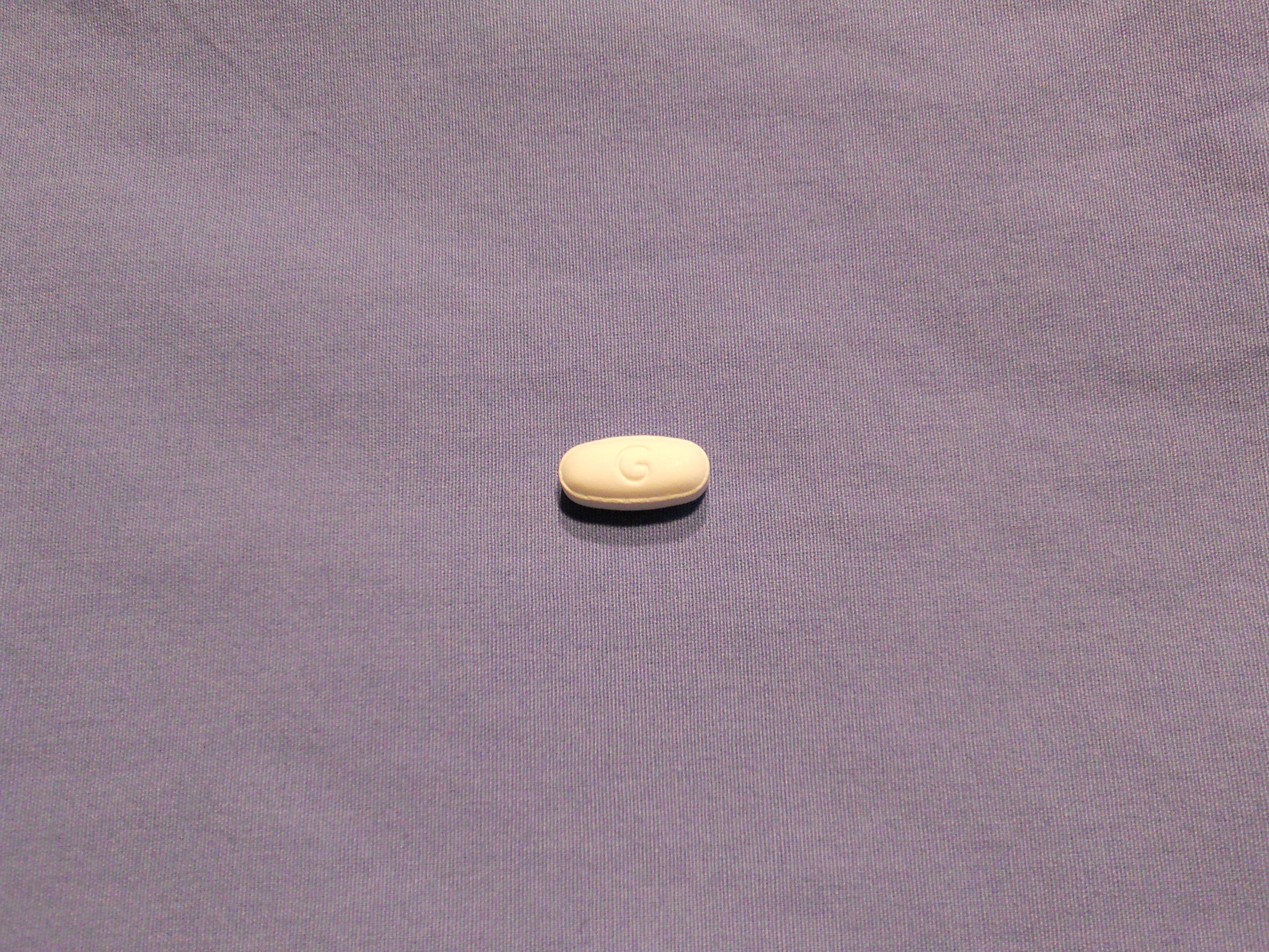Pill: (552, 428, 715, 519)
